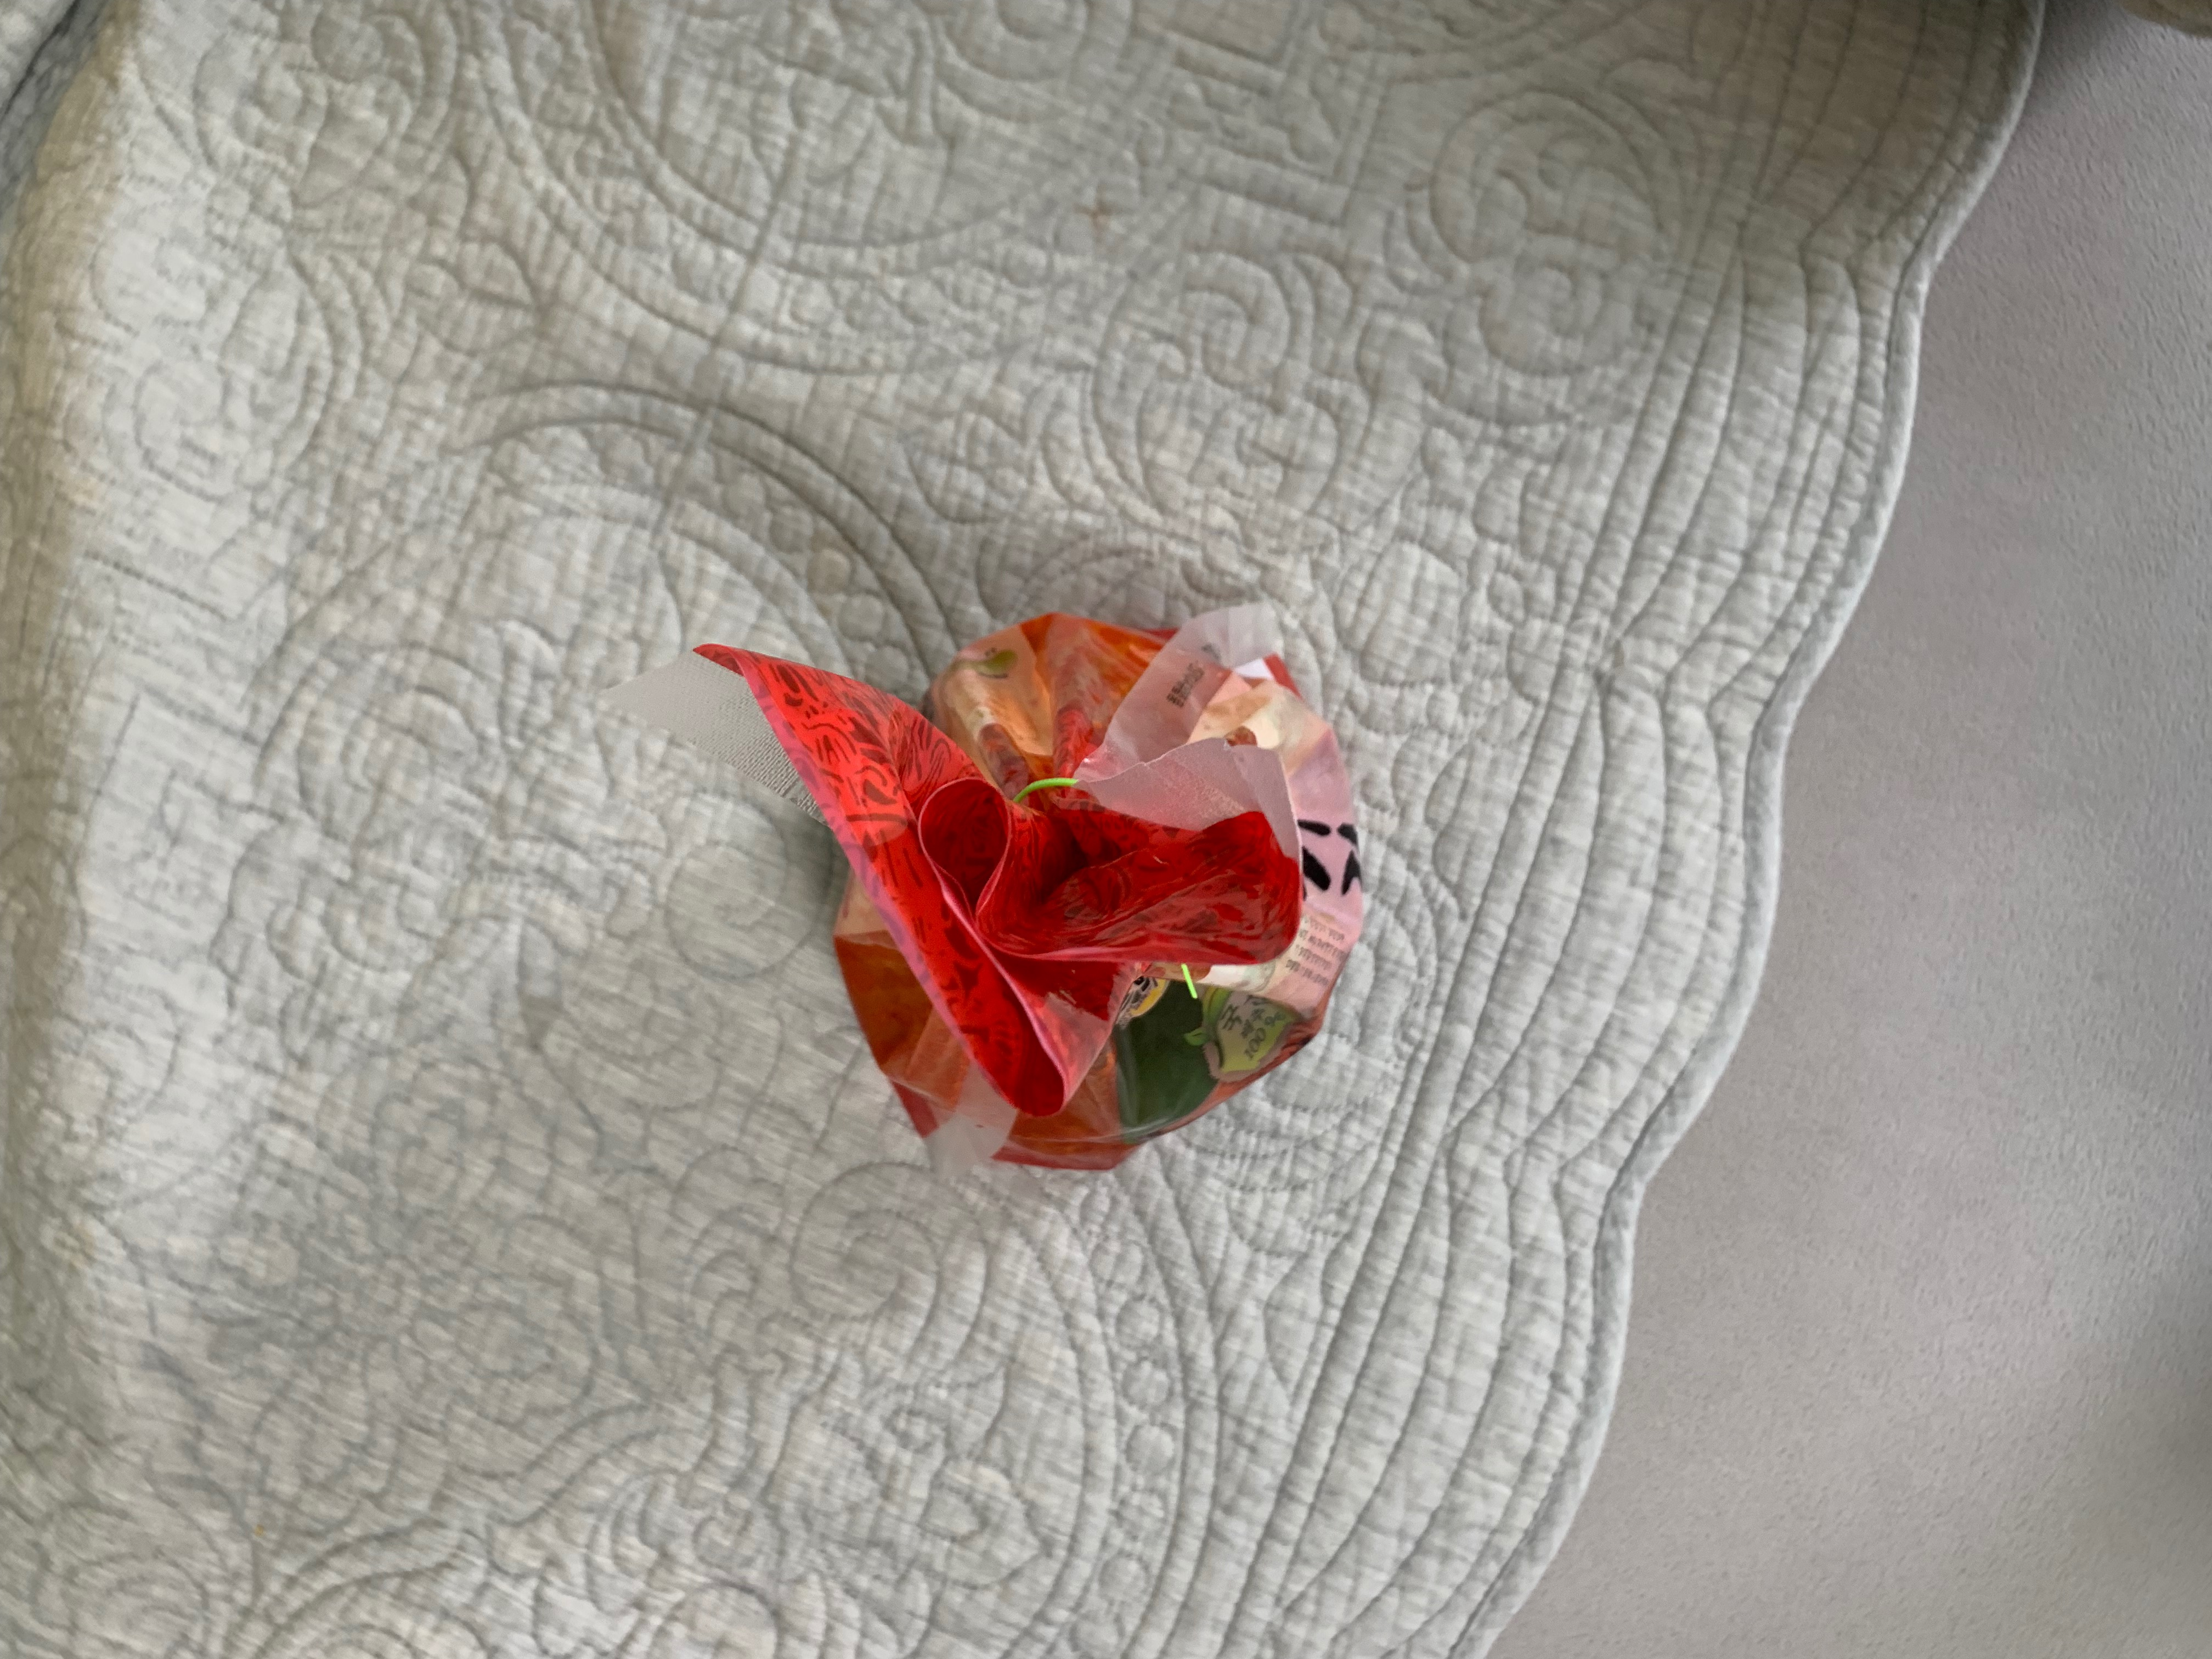kimchi: (693, 615, 1362, 1171)
